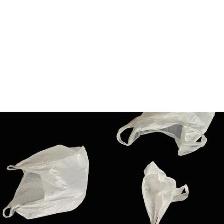plastic_bag: (0, 141, 92, 224), (113, 109, 220, 159), (137, 156, 190, 224)
